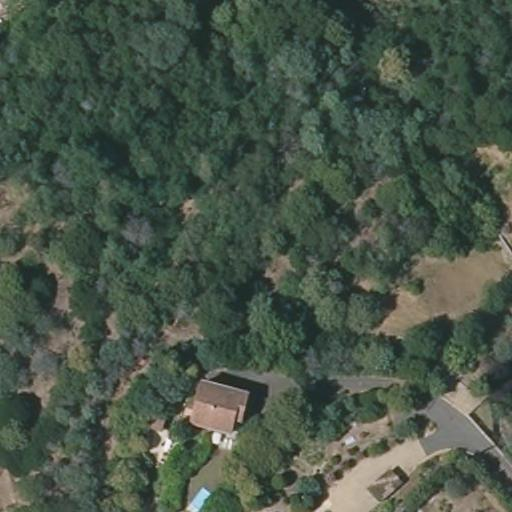pool: (185, 485, 214, 511)
